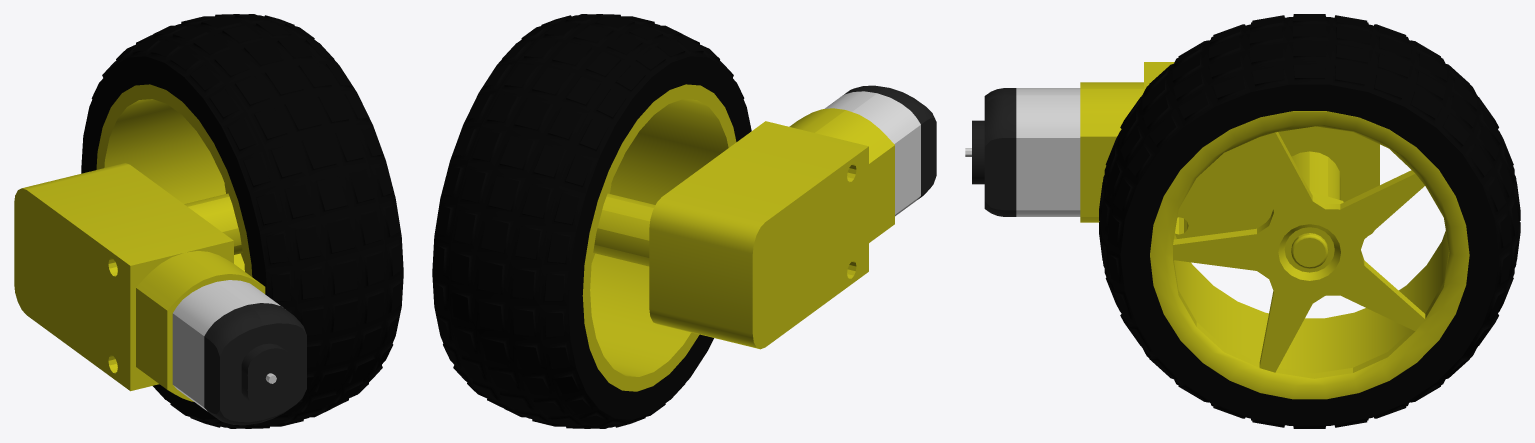
Rendered from MotorreductorWheel.glb.
3 renders of one model, left to right at view 1: azimuth 30°, elevation 25°; view 2: azimuth 150°, elevation 25°; view 3: azimuth 270°, elevation 25°, orthographic.
Visible parts, largest first — view 1: Cylinder.003, Case1L.001, Circle.001, Case2L.001, Case1R.001, MotorCapL.001, MotorShieldL.001, MotorCapR.001, Cylinder.004, Case2R.001, MotorShieldR.001; view 2: Cylinder.003, Case1L.001, Circle.001, Case1R.001, Case2L.001, MotorShieldL.001, MotorCapL.001, Case2R.001, MotorShieldR.001; view 3: Cylinder.003, Circle.001, Case1R.001, MotorShieldR.001, Case2R.001, MotorCapR.001, Cylinder.004, MotorShieldL.001.
Part boxes in pixels (x1=…): Cylinder.003: x1=81, y1=14, x2=403, y2=428; Case1L.001: x1=14, y1=175, x2=184, y2=391; Circle.001: x1=96, y1=84, x2=252, y2=276; Case2L.001: x1=136, y1=252, x2=216, y2=401; Case1R.001: x1=77, y1=163, x2=233, y2=263; MotorCapL.001: x1=204, y1=305, x2=263, y2=425; MotorShieldL.001: x1=172, y1=282, x2=247, y2=411; MotorCapR.001: x1=248, y1=303, x2=306, y2=422; Cylinder.004: x1=241, y1=343, x2=296, y2=406; Case2R.001: x1=185, y1=251, x2=265, y2=293; MotorShieldR.001: x1=217, y1=280, x2=280, y2=305; Cylinder.003: x1=432, y1=14, x2=751, y2=428; Case1L.001: x1=698, y1=133, x2=868, y2=349; Circle.001: x1=582, y1=84, x2=736, y2=391; Case1R.001: x1=649, y1=121, x2=813, y2=335; Case2L.001: x1=815, y1=110, x2=894, y2=242; MotorShieldL.001: x1=852, y1=93, x2=920, y2=216; MotorCapL.001: x1=878, y1=87, x2=936, y2=199; Case2R.001: x1=789, y1=108, x2=845, y2=132; MotorShieldR.001: x1=824, y1=91, x2=876, y2=111; Cylinder.003: x1=1099, y1=14, x2=1520, y2=428; Circle.001: x1=1150, y1=111, x2=1469, y2=399; Case1R.001: x1=1144, y1=89, x2=1379, y2=238; MotorShieldR.001: x1=1016, y1=95, x2=1080, y2=216; Case2R.001: x1=1080, y1=89, x2=1143, y2=222; MotorCapR.001: x1=984, y1=95, x2=1016, y2=216; Cylinder.004: x1=972, y1=120, x2=984, y2=184; MotorShieldL.001: x1=1016, y1=88, x2=1080, y2=95.
Size of the model in its own units: 0.0481 by 0.0659 by 0.0871.
